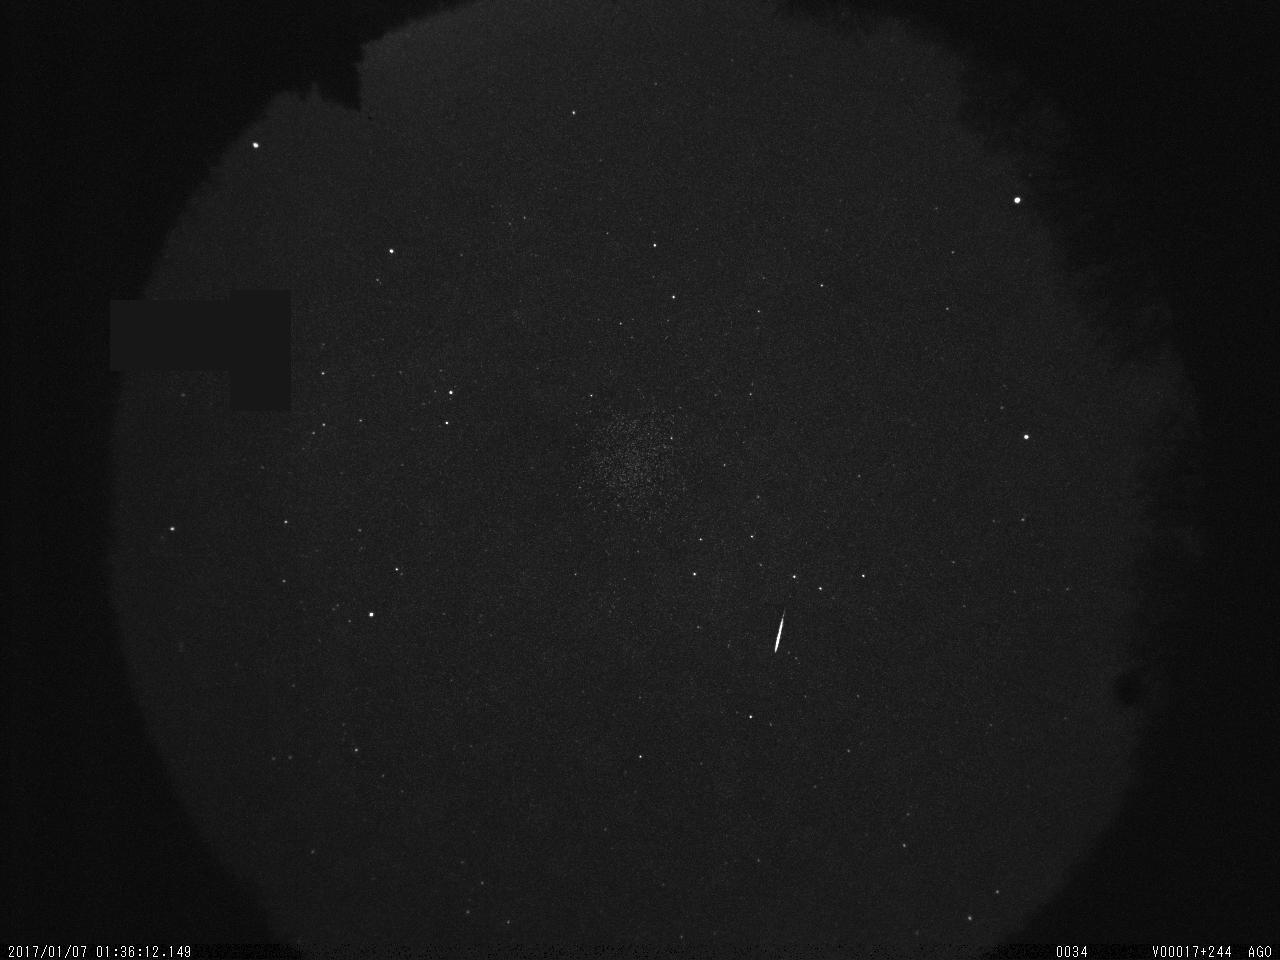meteor: (756, 603, 809, 664)
